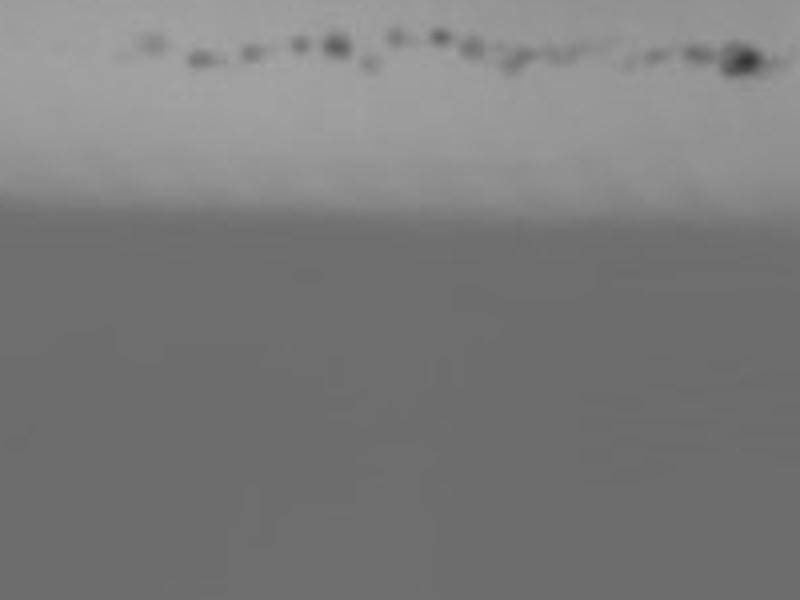defect: (720, 38, 757, 75), (500, 47, 535, 77), (536, 45, 578, 65), (320, 31, 350, 58), (680, 42, 713, 65), (137, 28, 162, 55), (185, 46, 215, 68), (236, 41, 262, 64), (287, 31, 308, 55), (460, 36, 481, 60), (383, 28, 407, 48), (645, 44, 667, 64), (427, 28, 450, 47), (357, 52, 377, 73), (617, 53, 635, 74)
